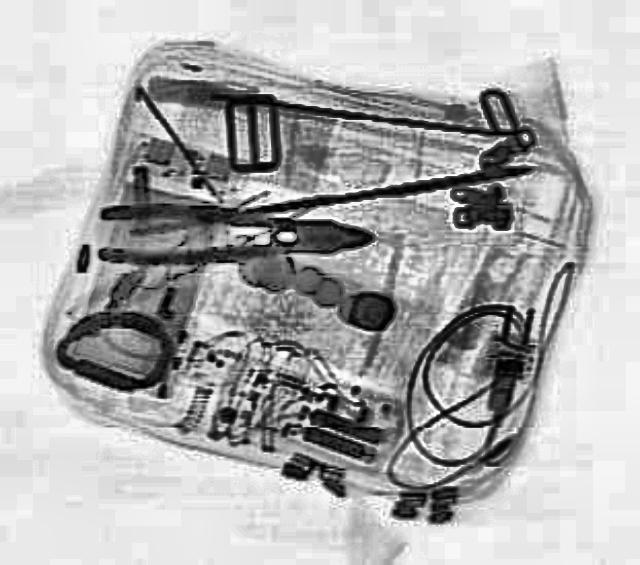Pliers: (92, 199, 370, 269)
